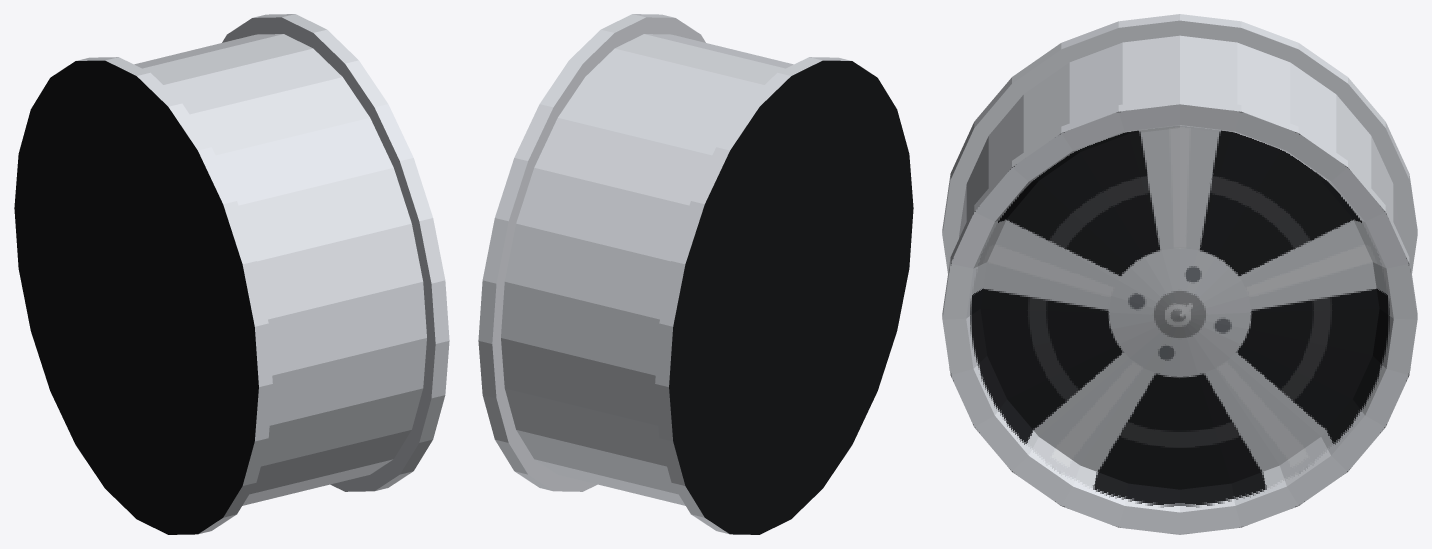
The model's file is quebramola_estrela_15.glb.
3 renders of one model, left to right at view 1: azimuth 30°, elevation 25°; view 2: azimuth 150°, elevation 25°; view 3: azimuth 270°, elevation 25°, orthographic. The views are drawn at different scales.
Visible parts, largest first — view 1: quebramola_estrela_15; view 2: quebramola_estrela_15; view 3: quebramola_estrela_15.
Boxes of the visible parts, <box> form: quebramola_estrela_15: <box>14,14,449,534</box>; quebramola_estrela_15: <box>478,14,913,534</box>; quebramola_estrela_15: <box>942,14,1417,534</box>.
Size of the model in its own units: 0.192 by 0.4267 by 0.4267.
Materials: 1 (1 with a texture image).
